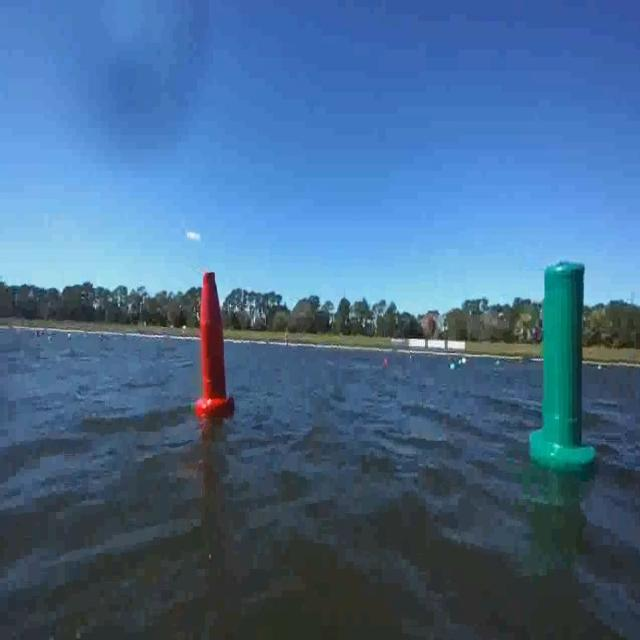green-column-buoy: (530, 260, 596, 472)
red-column-buoy: (196, 266, 233, 419)
